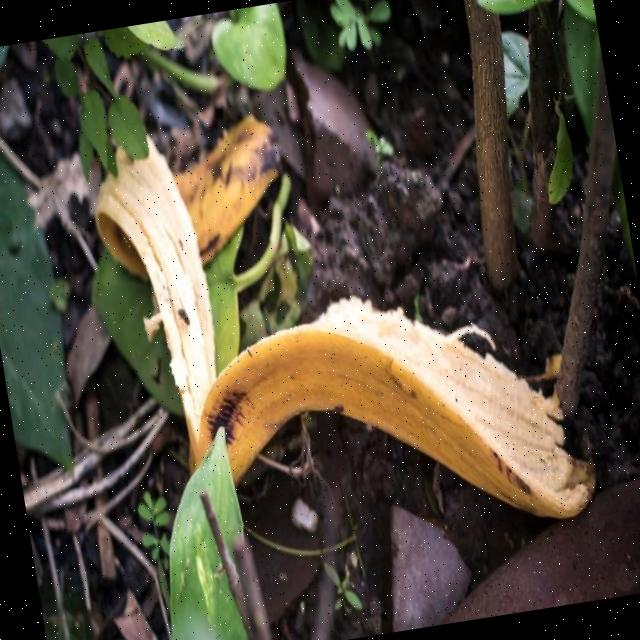banana-peel: (176, 260, 603, 576)
